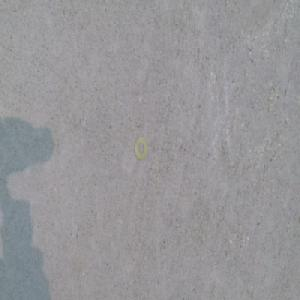Washer: (134, 135, 148, 160)
